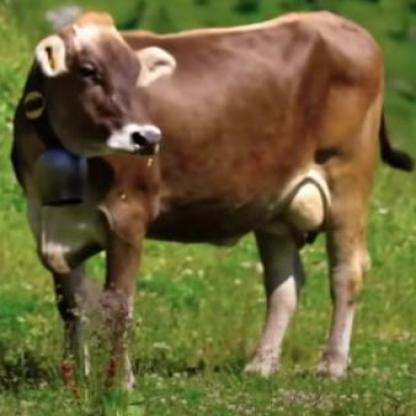cow: (8, 8, 416, 399)
